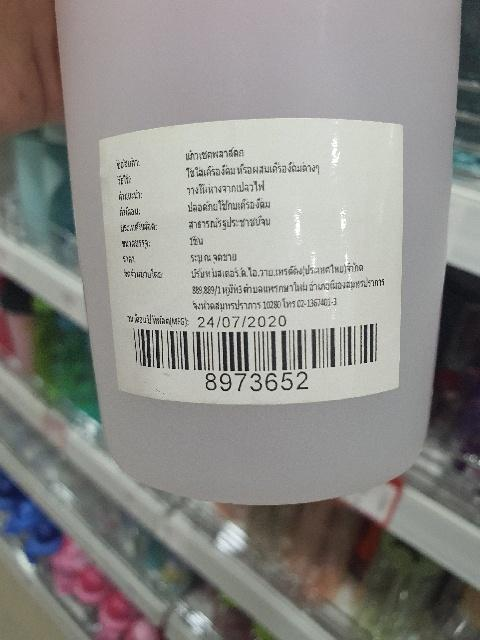Barcode: (126, 326, 390, 400)
